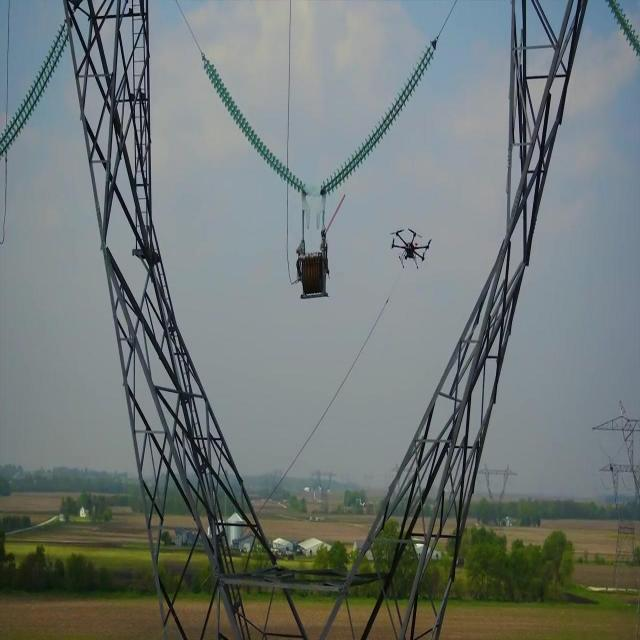UAV: (390, 228, 432, 270)
